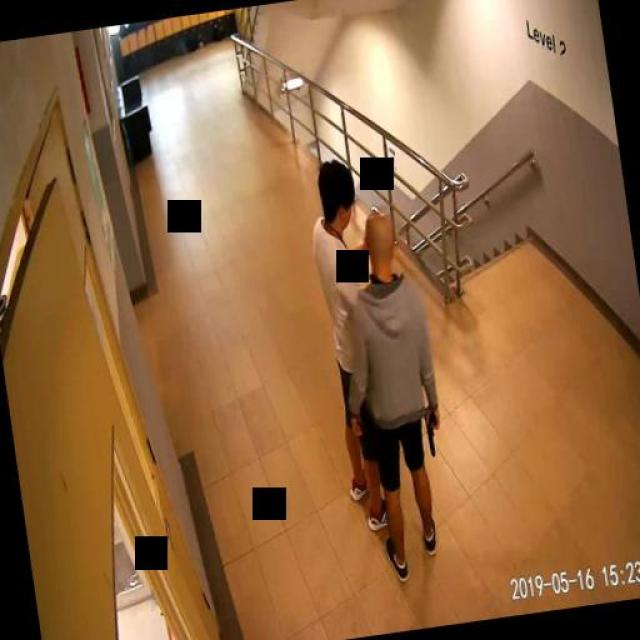gun: (422, 409, 442, 456)
